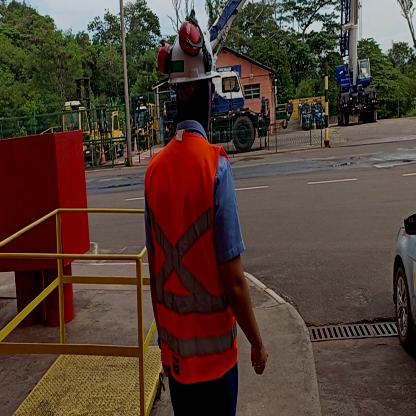Balaclava: (174, 80, 214, 133)
Capacete: (164, 21, 224, 80)
colete: (144, 137, 244, 375)
